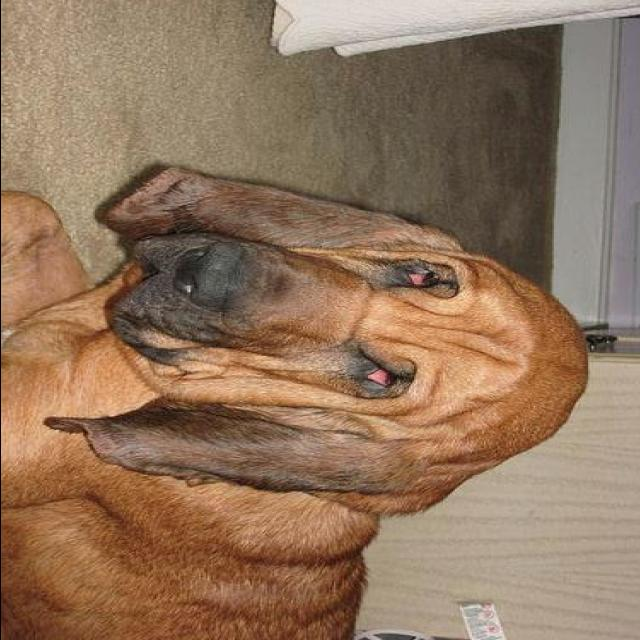bloodhound: (3, 165, 596, 640)
